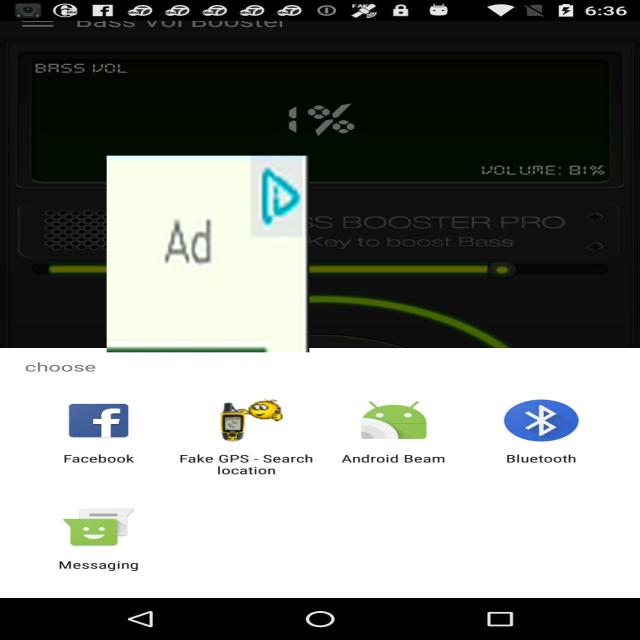sneaking: (107, 156, 309, 352)
